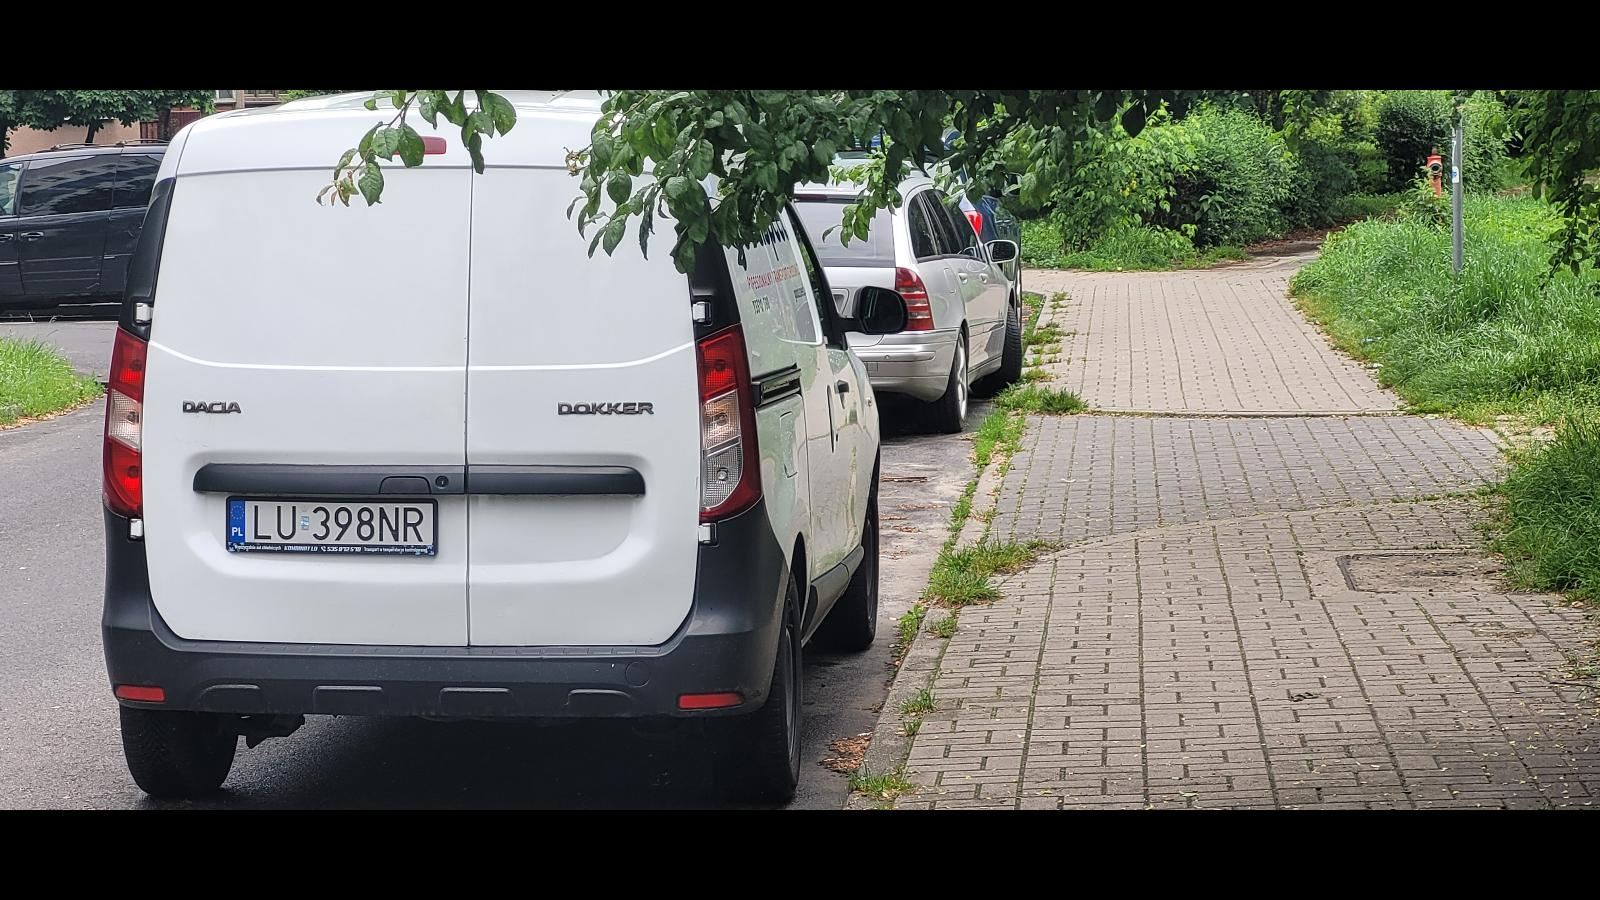plates: (226, 497, 438, 555)
